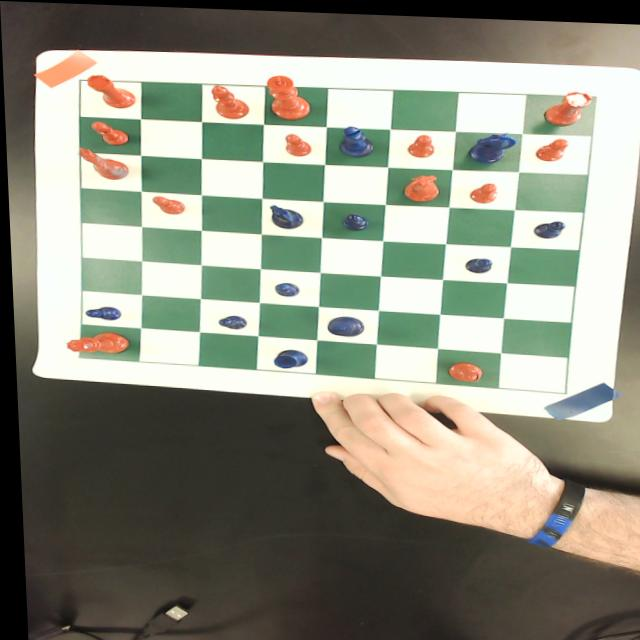B: (336, 122, 376, 153)
K: (322, 313, 363, 334)
N: (464, 126, 518, 160), (265, 202, 304, 227)
P: (530, 215, 566, 234), (81, 304, 120, 319), (339, 209, 368, 227), (462, 253, 491, 270), (214, 313, 245, 328), (271, 280, 297, 294)
R: (269, 345, 308, 367)
b: (209, 81, 250, 116), (443, 356, 484, 381)
cb: (76, 78, 595, 388)
k: (266, 72, 313, 117)
n: (77, 145, 129, 179), (401, 170, 442, 197)
p: (90, 118, 129, 144), (532, 132, 569, 157), (404, 130, 435, 155), (281, 130, 311, 155), (149, 193, 185, 213), (467, 178, 498, 199)
q: (62, 330, 128, 352)
r: (539, 85, 595, 122), (85, 72, 136, 108)
